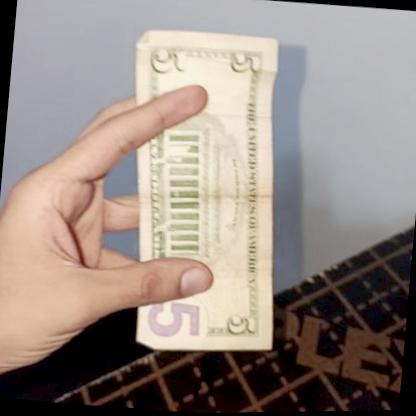five-back: (104, 20, 296, 367)
